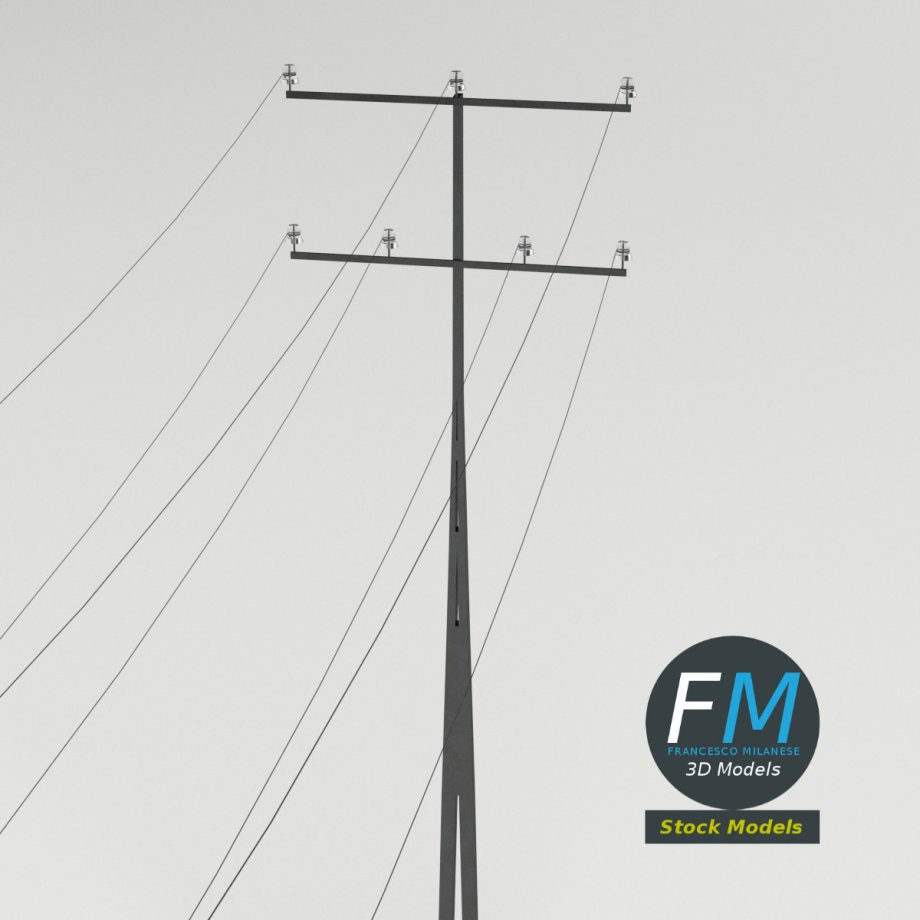utility_pole: (248, 40, 652, 349)
